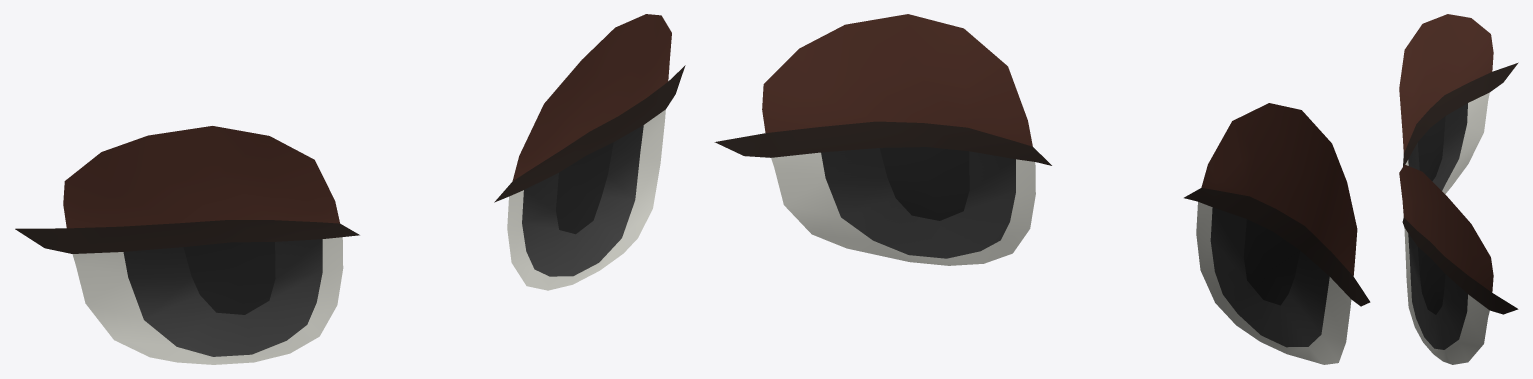
File: Eye_Black_5.fbx
The picture shows the model from 3 angles, left to right: view 1: azimuth 30°, elevation 25°; view 2: azimuth 150°, elevation 25°; view 3: azimuth 270°, elevation 25°; orthographic projection. The views are drawn at different scales.
Visible parts, largest first — view 1: Eye_Black_5; view 2: Eye_Black_5; view 3: Eye_Black_5.
Boxes of the visible parts, left/top/right/bottom form: Eye_Black_5: left=15, top=14, right=685, bottom=364; Eye_Black_5: left=714, top=14, right=1370, bottom=364; Eye_Black_5: left=1399, top=14, right=1518, bottom=364.
Bounding box in the file's own units: 41.23 × 14.51 × 8.45.
